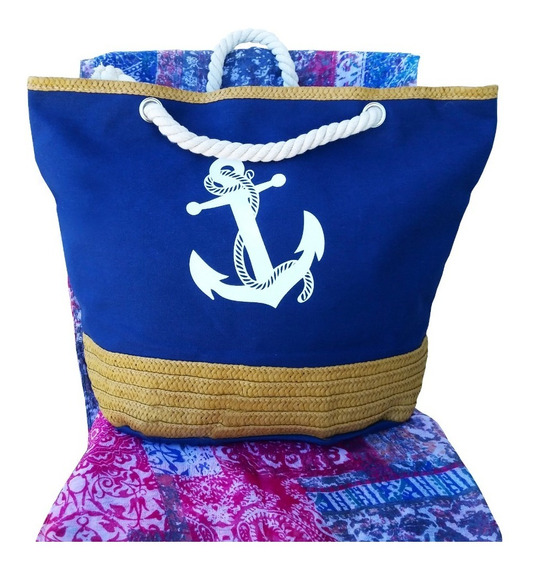cartera: (27, 24, 499, 446)
